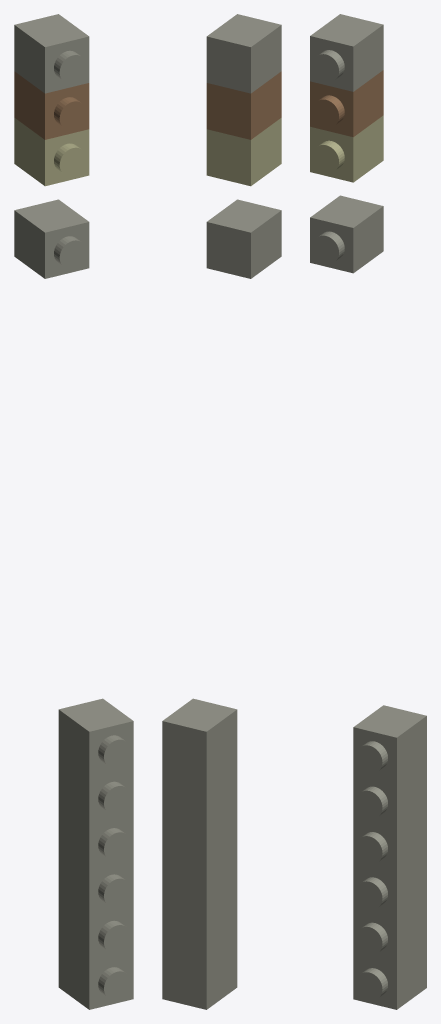
File: current.glb
The picture shows the model from 3 angles, left to right: view 1: azimuth 30°, elevation 25°; view 2: azimuth 150°, elevation 25°; view 3: azimuth 330°, elevation 25°; orthographic projection. The views are drawn at different scales.
Parts seen in each view (by area): view 1: world; view 2: world; view 3: world.
Part boxes in pixels (bbox=[...]): world: bbox=[14, 14, 133, 1009]; world: bbox=[162, 14, 281, 1009]; world: bbox=[310, 14, 426, 1009].
Bounding box in the file's own units: 16 × 168 × 11.4.
